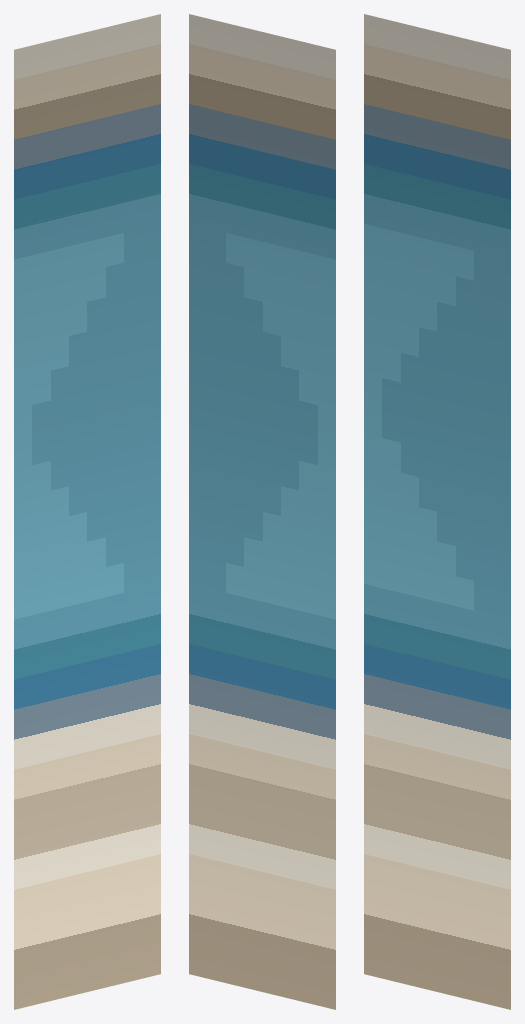
The picture shows the model from 3 angles, left to right: view 1: azimuth 30°, elevation 25°; view 2: azimuth 150°, elevation 25°; view 3: azimuth 330°, elevation 25°; orthographic projection.
Bounding box in the file's own units: 0.5 × 3.12 × 0.
Materials: 1 (1 with a texture image).
